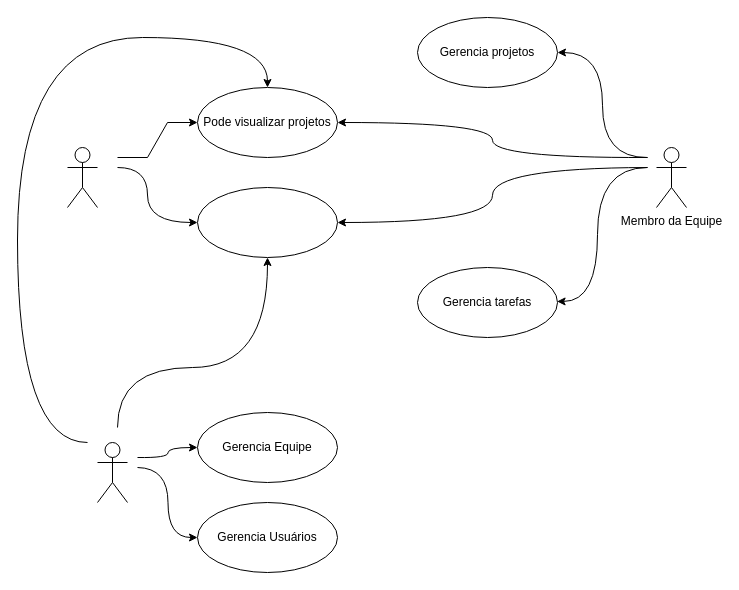
Some shapes in this 739 by 590 pixel diagram are drawn without their labels. The centre of each missing label's shape, as x and y in pixels:
"Administrador" goes at [112,472].
"Pode visualizar atividades" goes at [267,222].
"Usuário Comum" goes at [82,177].
